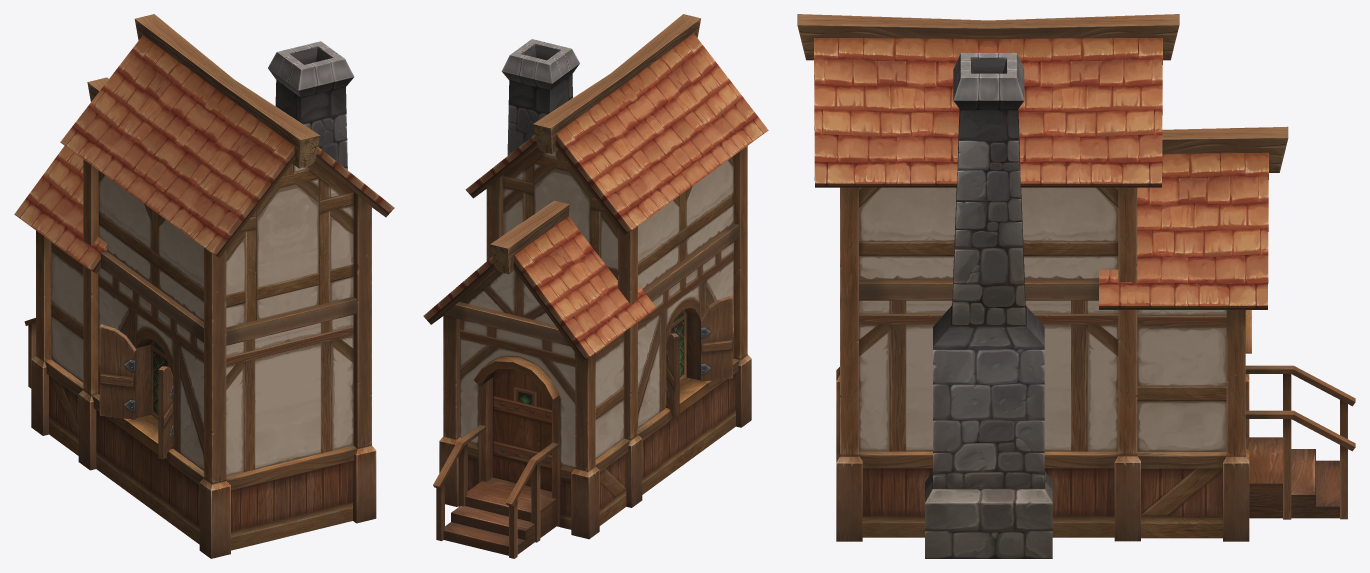
The model's file is House3_LOD.fbx.
3 views of the same model, side by side, from view 1: azimuth 30°, elevation 25°; view 2: azimuth 150°, elevation 25°; view 3: azimuth 270°, elevation 25° (orthographic). The views are drawn at different scales.
Parts seen in each view (by area): view 1: House3_LOD0; view 2: House3_LOD0; view 3: House3_LOD0.
Boxes of the visible parts, bbox=[...] form: House3_LOD0: bbox=[14, 14, 394, 558]; House3_LOD0: bbox=[423, 14, 768, 558]; House3_LOD0: bbox=[797, 14, 1355, 558].
Size of what is drawn, in the model's own units: 389 by 726 by 771.
1 material, 1 textured.
